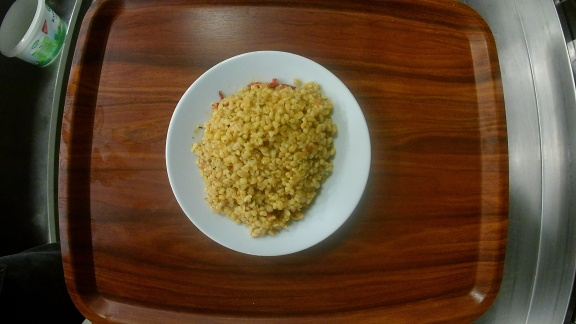bulgur: (166, 50, 372, 254)
